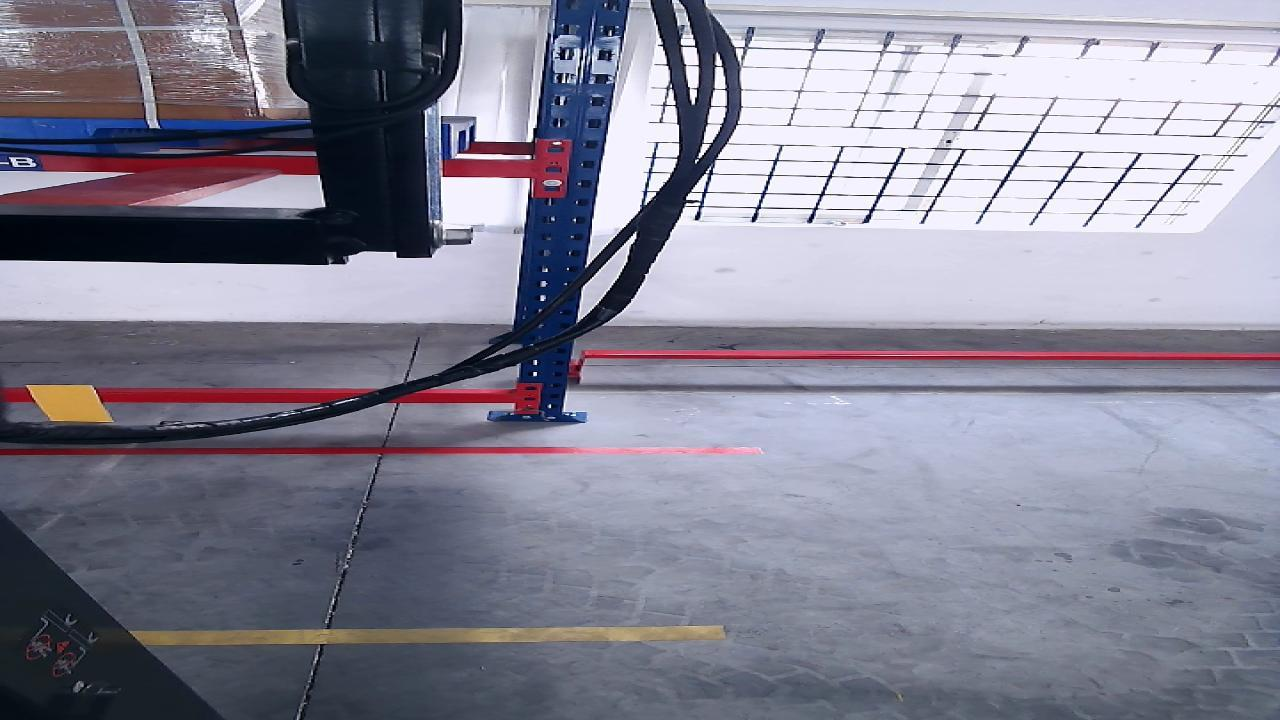h_rack: (2, 154, 526, 177), (3, 393, 511, 404)
orange_strip: (24, 386, 111, 422)
red_line: (0, 446, 765, 456)
small_pallet: (0, 118, 452, 159)
yellow_line: (142, 623, 734, 643)
